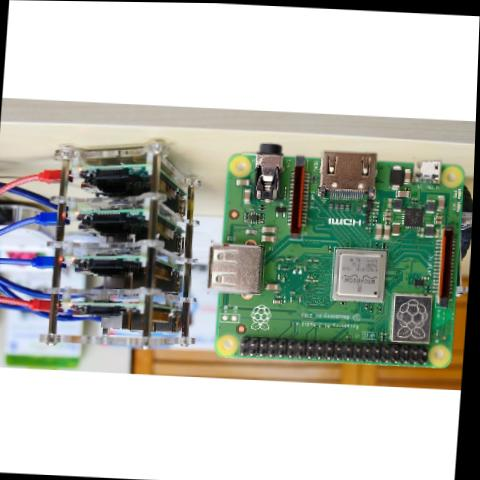Raspberry-Pi-3-Model-A-: (200, 135, 473, 372)
